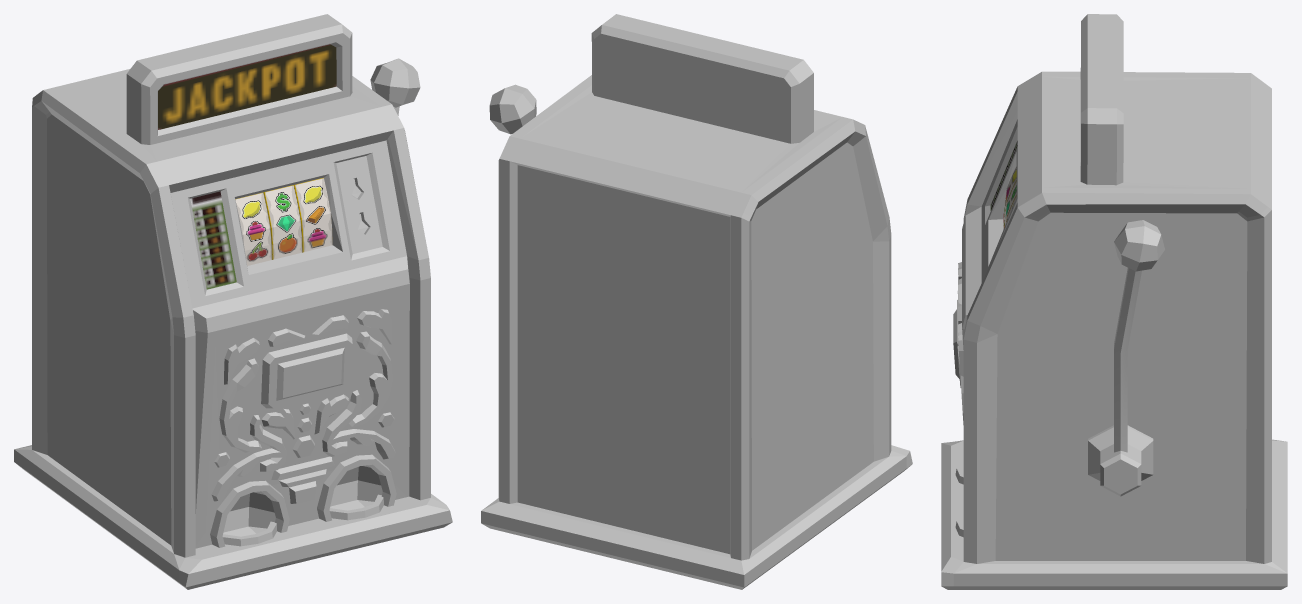
Rendered from SM_Prop_Slot_Machine_04.fbx.
The picture shows the model from 3 angles, left to right: view 1: azimuth 30°, elevation 25°; view 2: azimuth 150°, elevation 25°; view 3: azimuth 270°, elevation 25°; orthographic projection. The views are drawn at different scales.
Visible parts, largest first — view 1: SM_Prop_Slot_Machine_04; view 2: SM_Prop_Slot_Machine_04; view 3: SM_Prop_Slot_Machine_04.
Boxes of the visible parts, left/top/right/bottom form: SM_Prop_Slot_Machine_04: left=14, top=14, right=452, bottom=589; SM_Prop_Slot_Machine_04: left=481, top=14, right=912, bottom=589; SM_Prop_Slot_Machine_04: left=941, top=14, right=1287, bottom=589.
Size of the model in its own units: 52.17 by 69.66 by 46.98.
